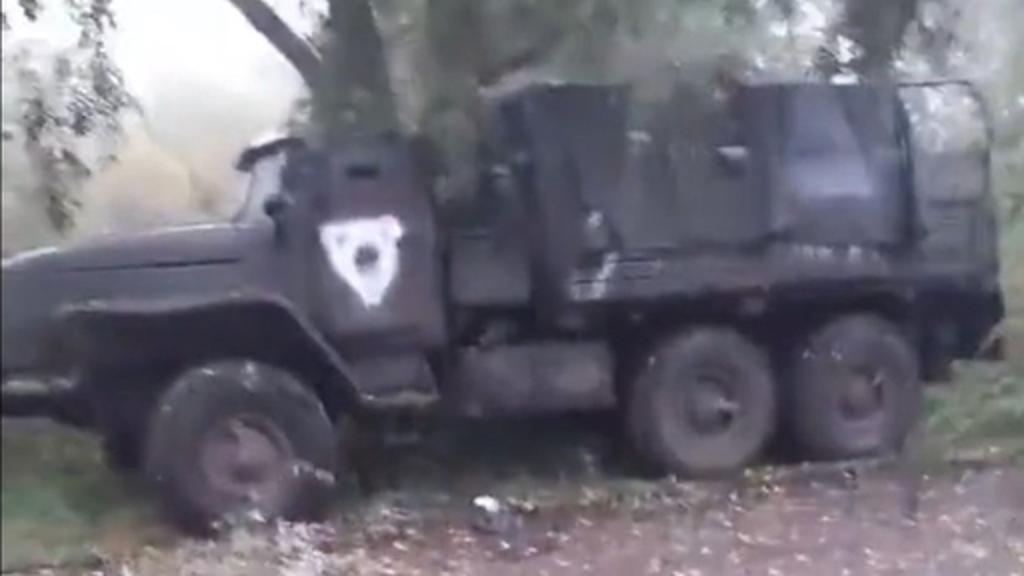TRUCK: (0, 64, 1006, 530)
